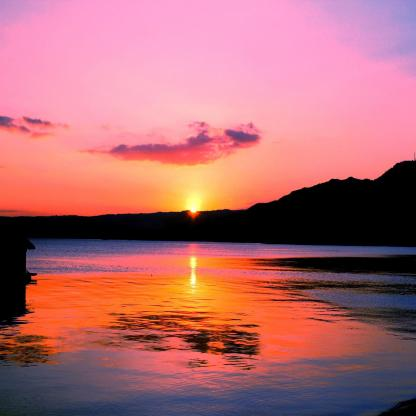other: (184, 248, 205, 299), (182, 188, 206, 216)
